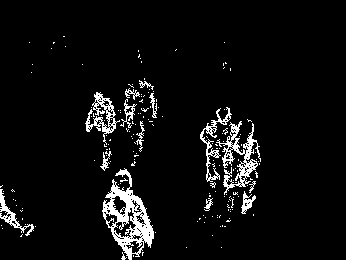person: (101, 170, 155, 256), (199, 101, 238, 212), (228, 118, 261, 212), (87, 87, 117, 170), (124, 81, 150, 165)
